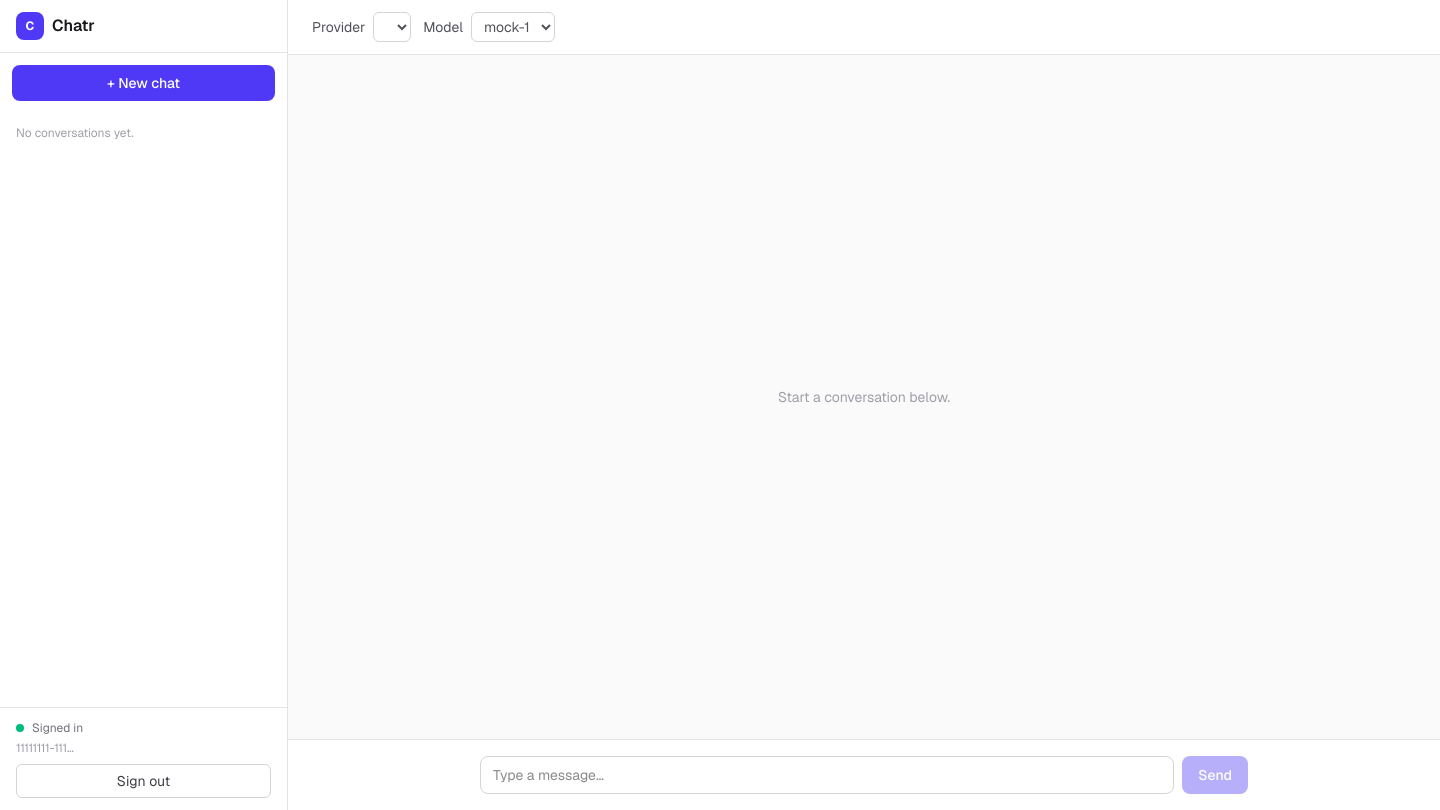
Test case: ChatWorkspace › shows a streamed error inline
Type "trigger error" into the text box with placeholder "Type a message…".
click(827, 775); type("trigger error")  # box [480, 756, 1174, 794]
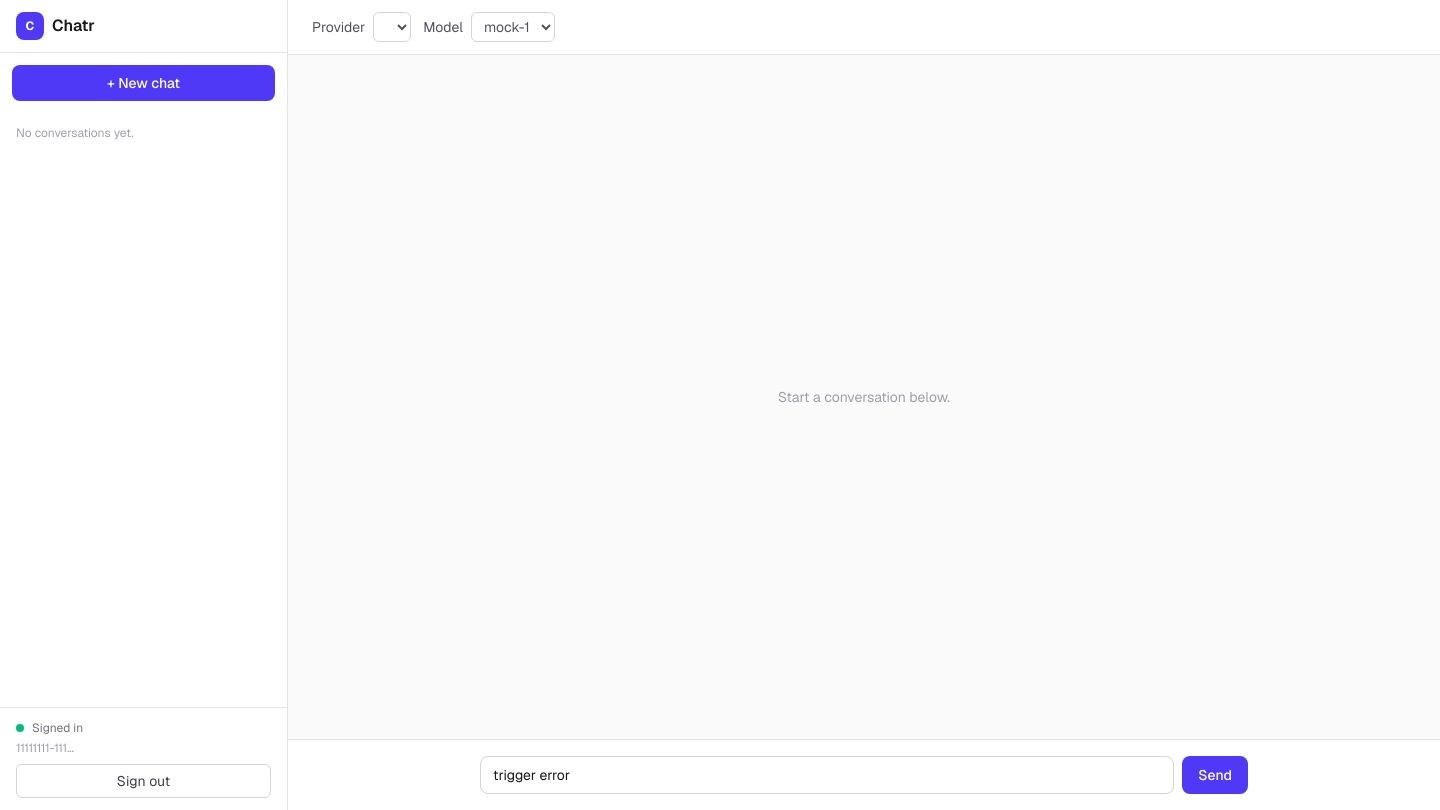
Click the button "Send".
click(1215, 775)  # box [1182, 756, 1248, 794]
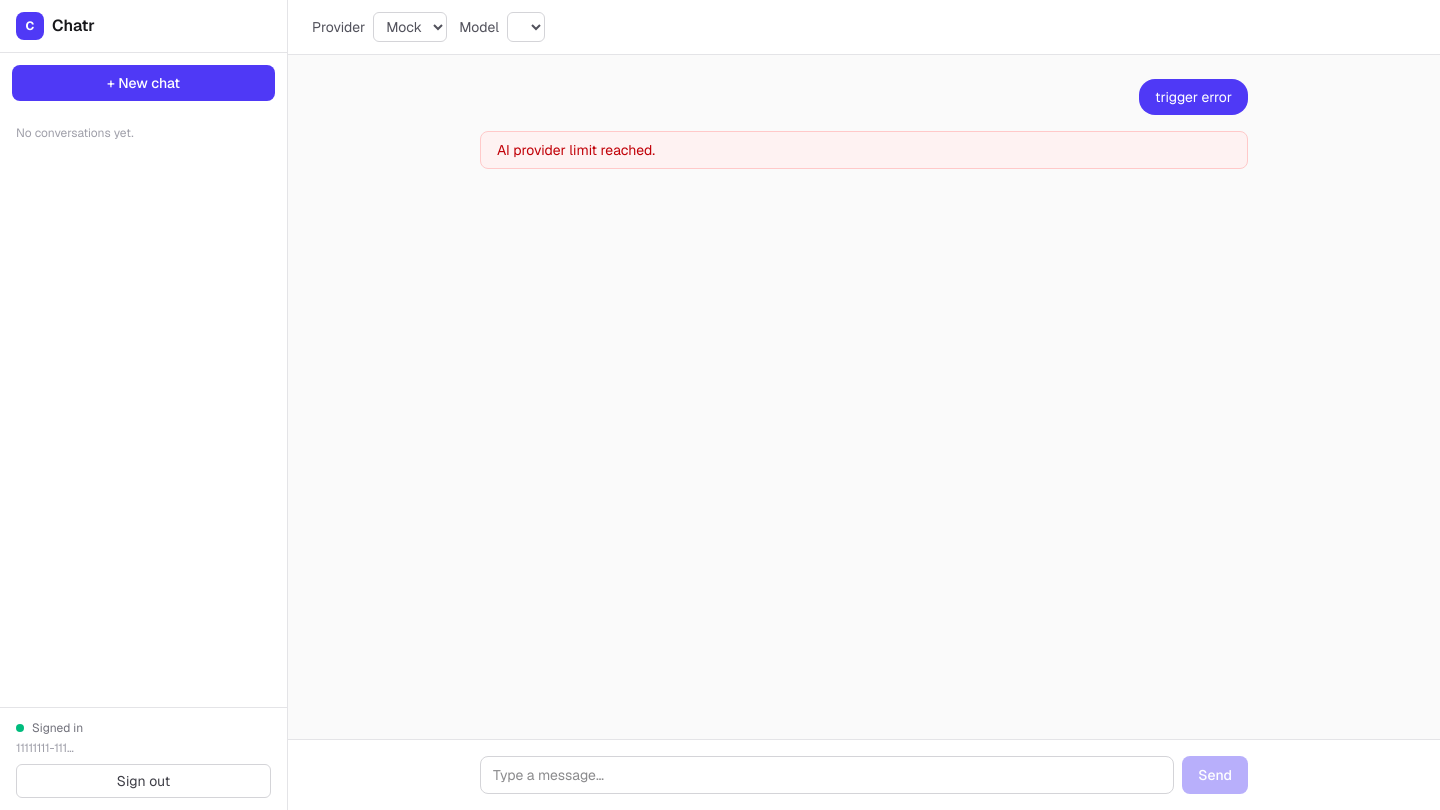
expect the text "AI provider limit reached." is shown: met, box [480, 131, 1248, 169]
